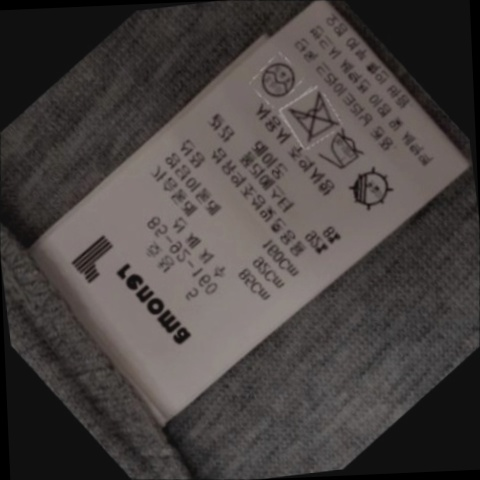DN_wash: (280, 90, 342, 145)
dry_clean_petrol_only: (252, 54, 301, 102)
iron_low: (315, 127, 370, 177)
line_dry_in_shade: (338, 164, 397, 215)
